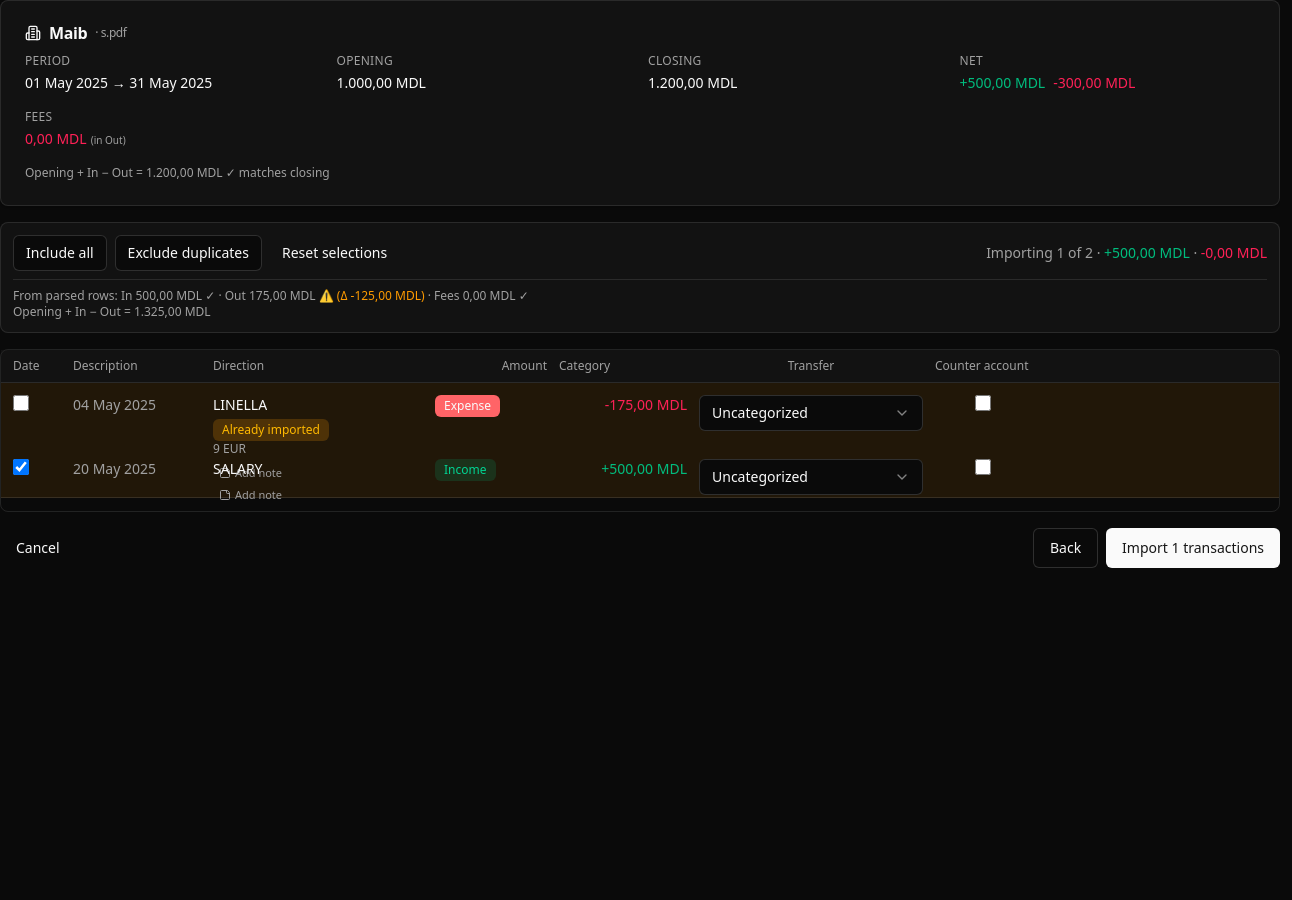
Scenario: ImportPreview — bulk actions + commit edges › surfaces a commit failure as an error toast
Expected: the element with test id "import-counter" is shown, [986,243,1267,263]
Click the button with test id "import-commit-button". click: [1193, 548]
box: [1106,528,1280,568]
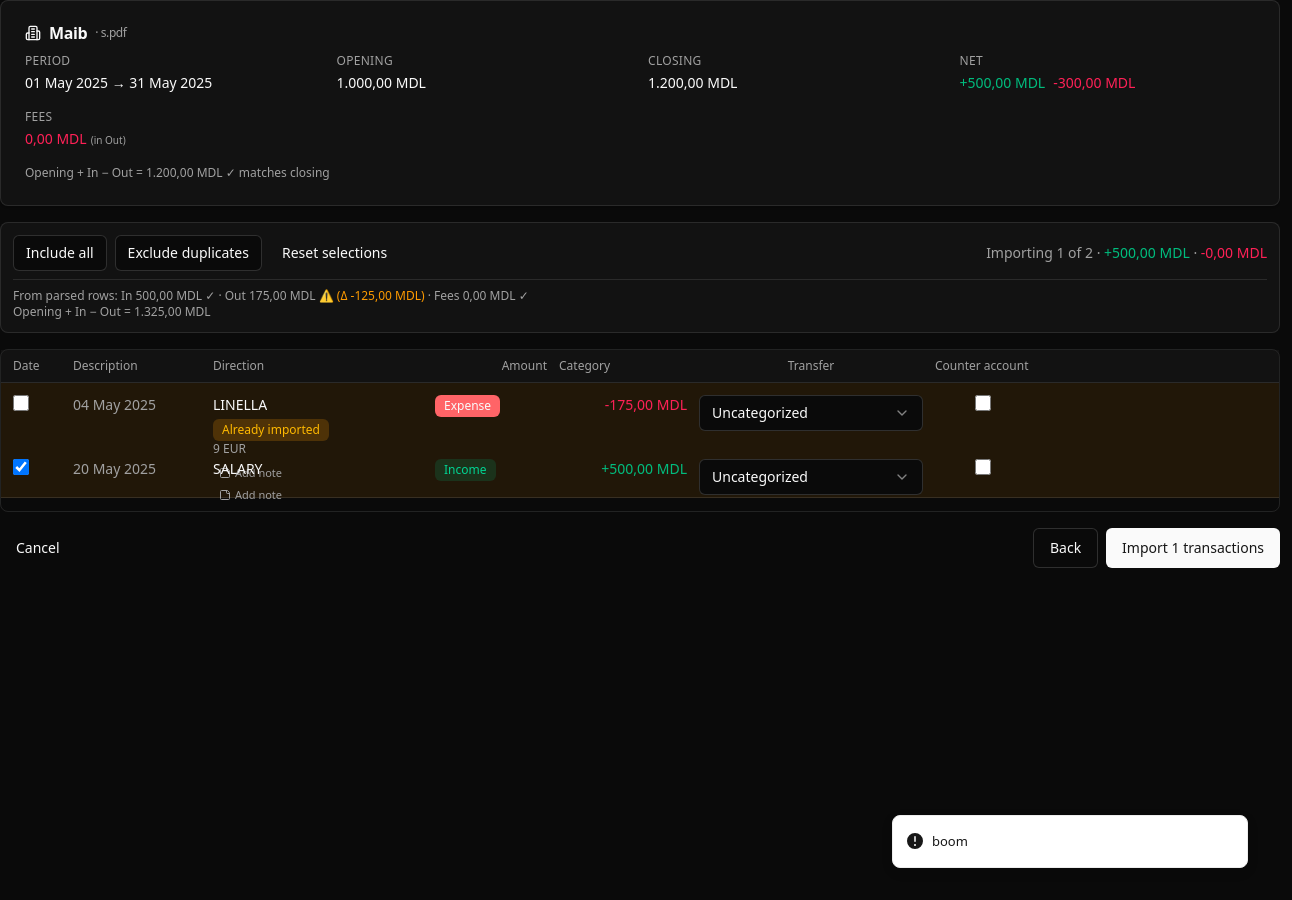
Now the text "boom" is shown, box [932,832,968,851]
